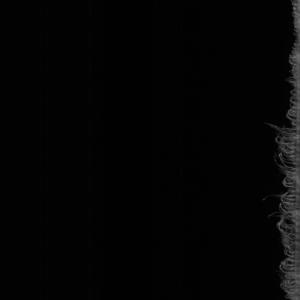Damage: (266, 1, 300, 300)
